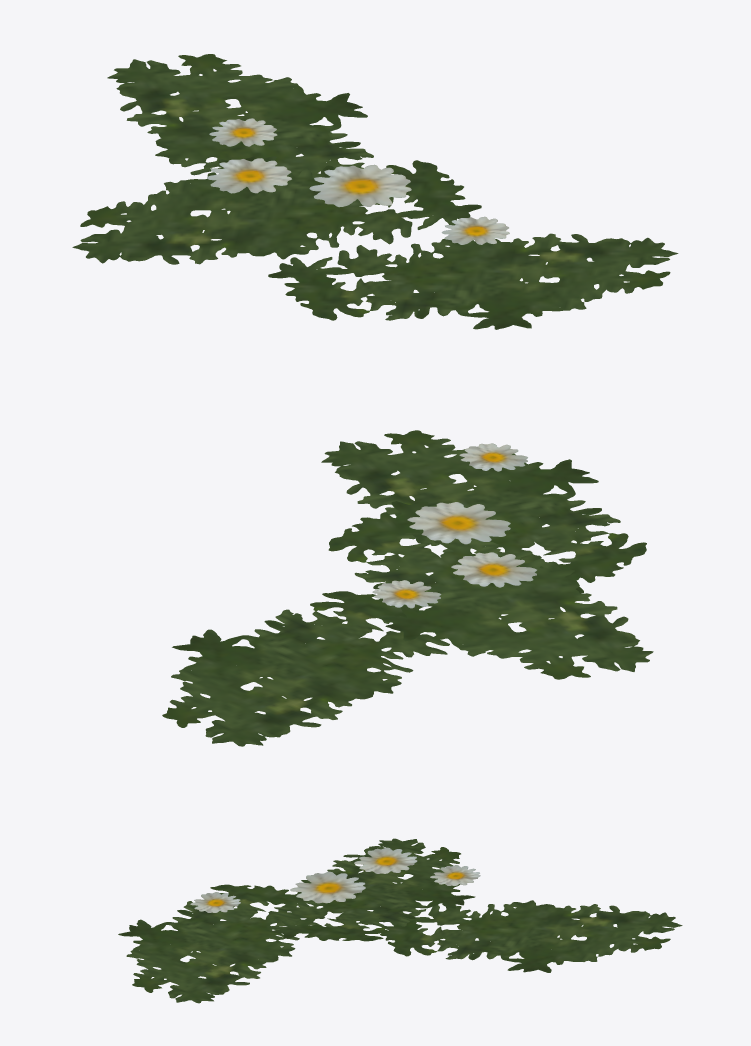
The model's file is Grass_B_2.fbx.
The picture shows the model from 3 angles, top to bottom: view 1: azimuth 30°, elevation 25°; view 2: azimuth 150°, elevation 25°; view 3: azimuth 270°, elevation 25°; orthographic projection. The views are drawn at different scales.
Visible parts, largest first — view 1: Grass_B_2__70_; view 2: Grass_B_2__70_; view 3: Grass_B_2__70_.
Boxes of the visible parts, bbox=[...] form: Grass_B_2__70_: bbox=[72, 54, 678, 329]; Grass_B_2__70_: bbox=[162, 430, 653, 746]; Grass_B_2__70_: bbox=[118, 838, 682, 1003].
Size of the model in its own units: 0.3186 by 0.0287 by 0.436.
